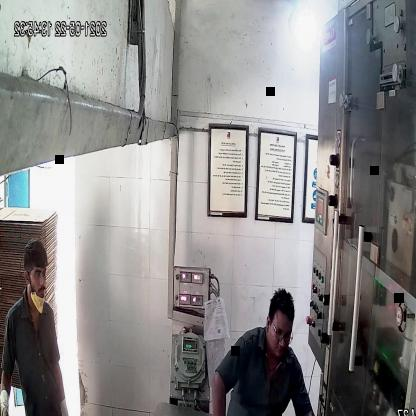goggles: (269, 326, 295, 347)
no_goggles: (26, 266, 48, 284)
